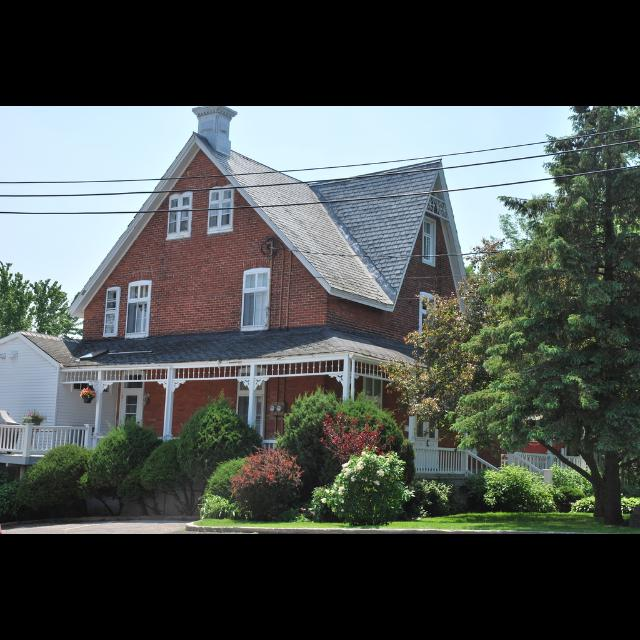Flower: (322, 452, 386, 504), (319, 497, 327, 503)
